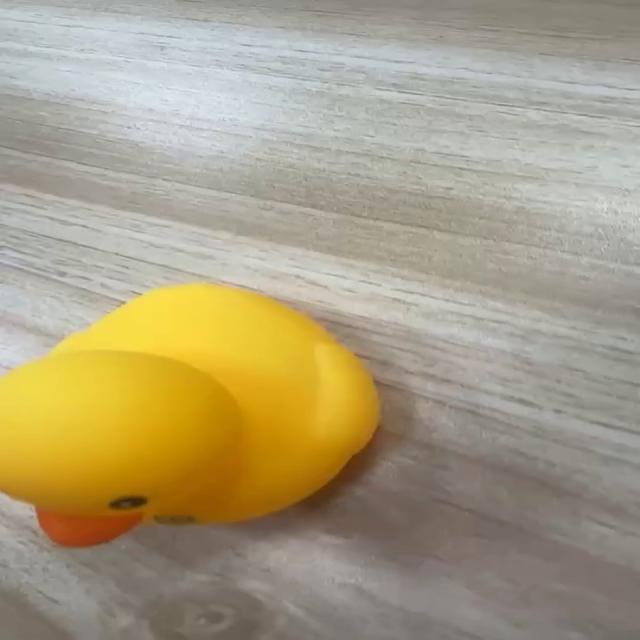yellow_duck: (0, 281, 382, 547)
